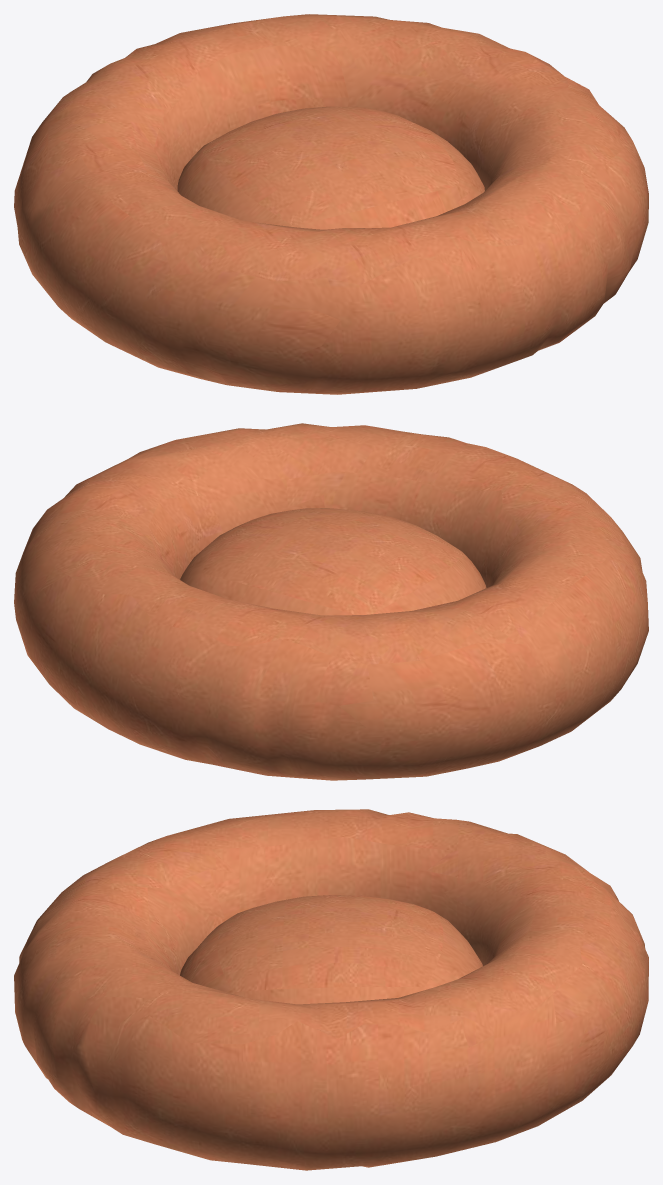
The model's file is YGB0110043.fbx.
3 views of the same model, one above another, from view 1: azimuth 30°, elevation 25°; view 2: azimuth 150°, elevation 25°; view 3: azimuth 270°, elevation 25° (orthographic).
Parts seen in each view (by area): view 1: smYGB0110043; view 2: smYGB0110043; view 3: smYGB0110043.
Part boxes in pixels (x1,y1,x2,y2): smYGB0110043: (14,14,648,394); smYGB0110043: (14,423,648,780); smYGB0110043: (14,809,648,1170).
Size of the model in its own units: 137 by 39.4 by 136.
Materials: 1 (1 with a texture image).
